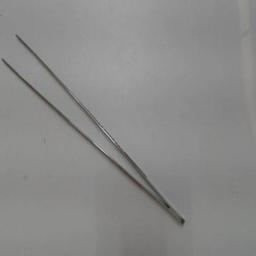DeBakey Dissector: (2, 23, 200, 239)
